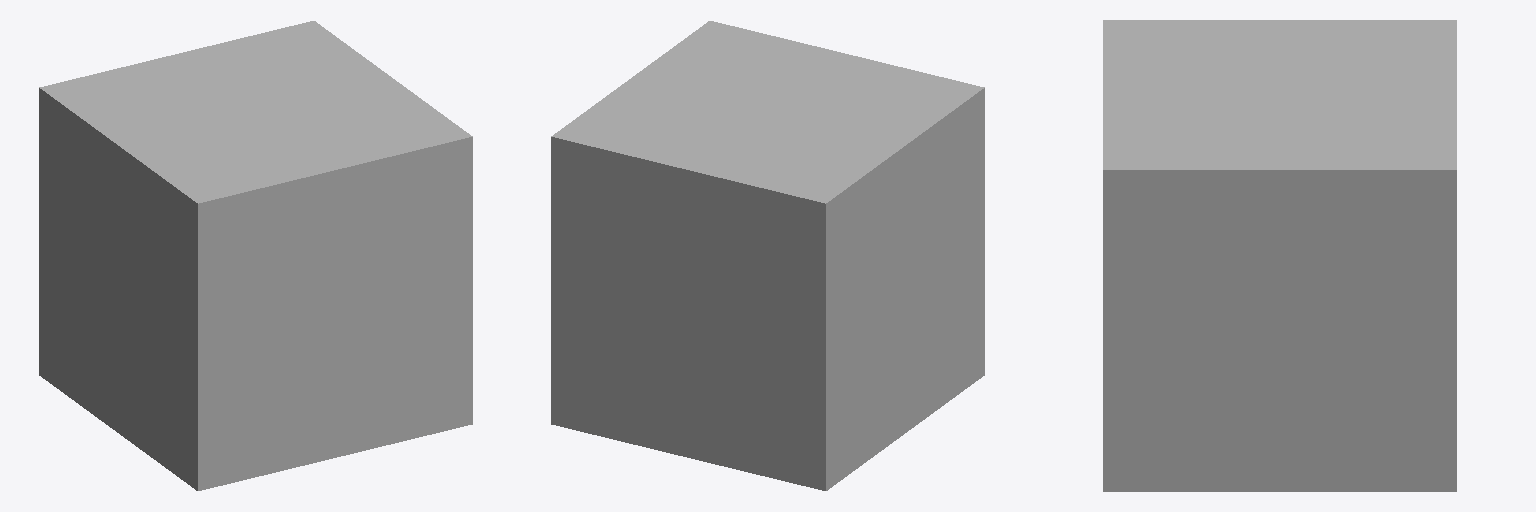
The robot description file, URDF, robot "root":
<robot name="root">
  <link name="link_001">
    <visual>
      <origin xyz="0 0 0" rpy="0 0 0"/>
      <geometry>
        <mesh filename="cubelarge.obj" scale="1.5000E+00 1.5000E+00 1.5000E+00"/>
      </geometry>
      <material name="">
        <color rgba="7.50E-01 7.50E-01 7.50E-01 1"/>
      </material>
    </visual>
    <collision>
      <origin xyz="0 0 0" rpy="0 0 0"/>
      <geometry>
        <mesh filename="cubelarge.obj" scale="1.5000E+00 1.5000E+00 1.5000E+00"/>
      </geometry>
    </collision>
    <inertial>
      <mass value="0.16"/> <!-- 质量：0.1kg -->
    </inertial>
  </link>
</robot>

--- Facts derived from the render (not from the file) ---
Views: 3 orthographic renders of the robot side by side, from view 1: azimuth 30°, elevation 25°; view 2: azimuth 150°, elevation 25°; view 3: azimuth 270°, elevation 25°.
Model root with 1 links and 0 joints (none), rooted at link_001, posed all joints at 0.
Visible links, largest first — view 1: link_001; view 2: link_001; view 3: link_001.
Boxes of the visible links, left/top/right/bottom form: link_001: left=39, top=21, right=472, bottom=490; link_001: left=551, top=21, right=984, bottom=490; link_001: left=1103, top=20, right=1456, bottom=491.
Size in the robot's own frame: 0.18 by 0.18 by 0.18 metres.
1 mesh visuals loaded from 1 distinct referenced files (1 OBJ).
